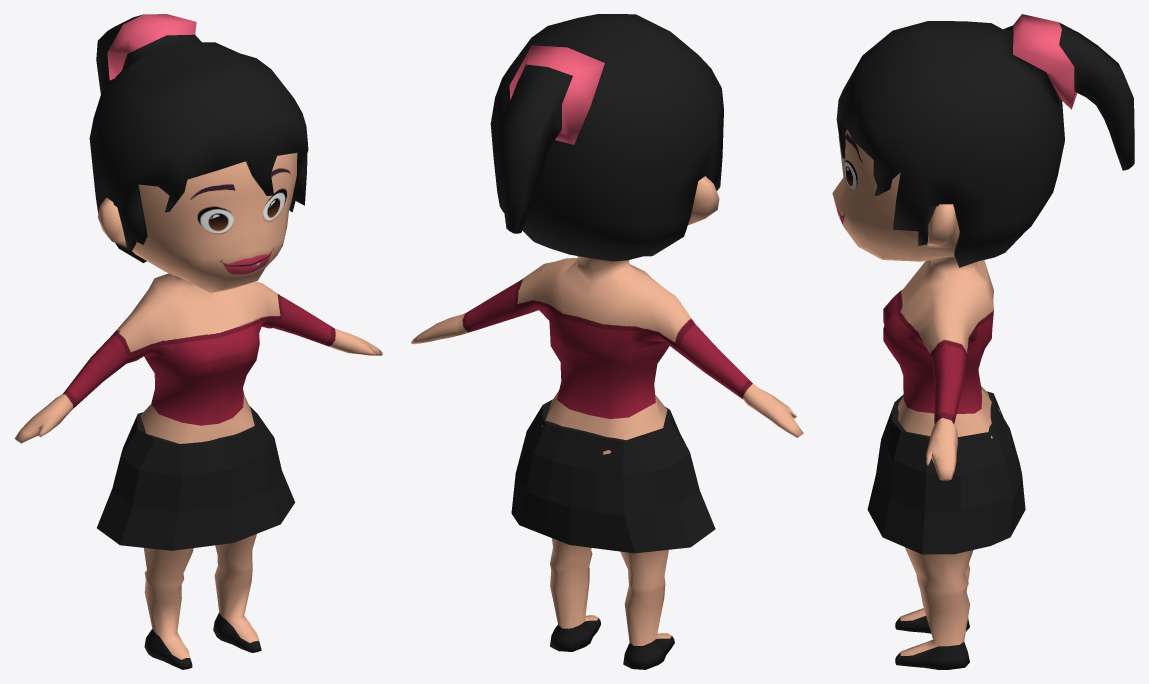
Rendered from girl no bones.fbx.
3 views of the same model, side by side, from view 1: azimuth 30°, elevation 25°; view 2: azimuth 150°, elevation 25°; view 3: azimuth 270°, elevation 25° (orthographic). The views are drawn at different scales.
Visible parts, largest first — view 1: Cylinder; view 2: Cylinder; view 3: Cylinder.
Part boxes in pixels (x1,y1,x2,y2): Cylinder: (14, 14, 382, 669); Cylinder: (411, 14, 803, 669); Cylinder: (832, 14, 1134, 669).
Size of the model in its own units: 161 by 250 by 110.
Materials: 2 (2 with a texture image).
